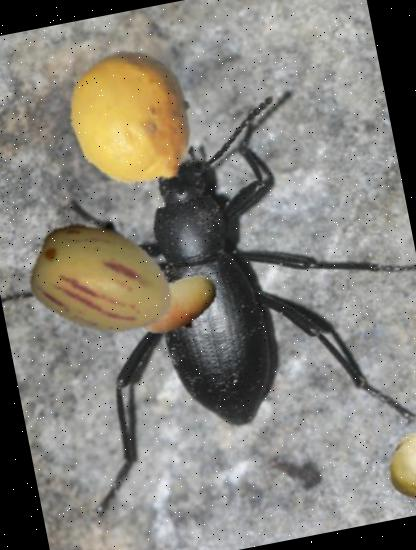Apple: (380, 425, 416, 506)
Lemon: (50, 36, 216, 201)
Peach: (128, 256, 229, 356)
Pepino: (16, 190, 188, 362)
